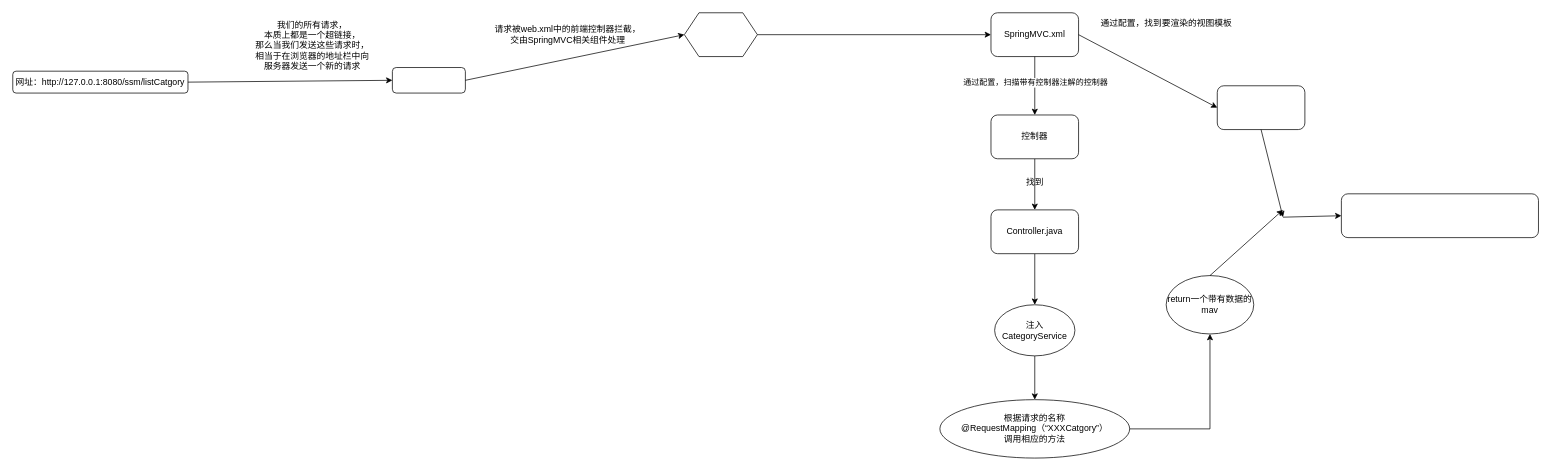
Some shapes in this 1551 by 471 pixel diagram are drawn without their labels. The shapes that lost their labels are listed below. From the top down, each one's centre as x and y in pixels, then its label:
the point at 720,34: SpringMVC
the point at 428,80: web.xml
the point at 1261,107: 视图解析器
the point at 1439,215: 网址:http://127.0.0.1:8080/ssm/listCategory
